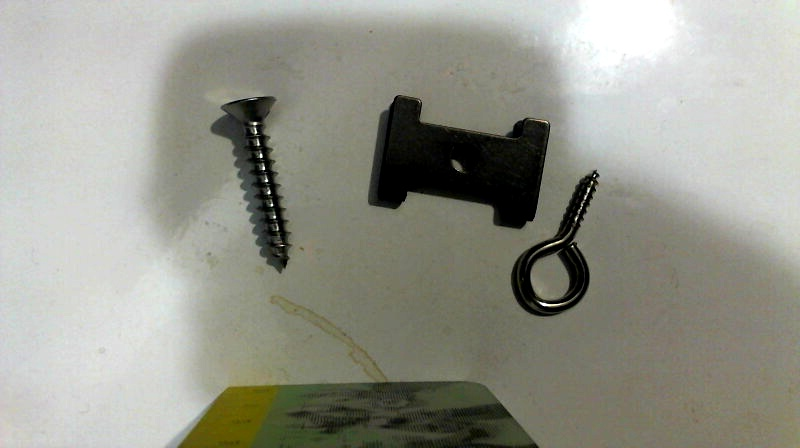O001: (509, 167, 602, 317)
O002: (376, 91, 554, 220)
S001: (216, 91, 292, 269)
